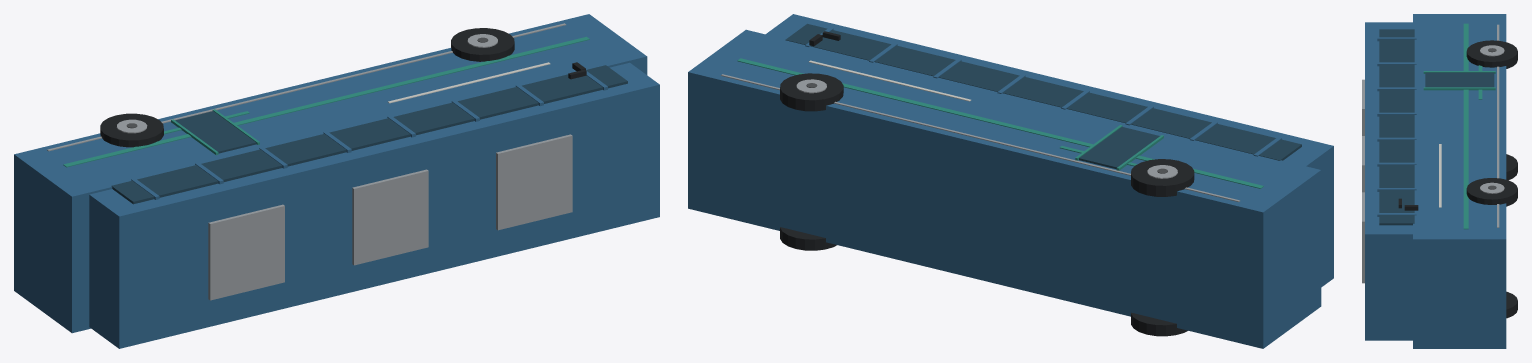
File: RM_Bus_01.glb
3 renders of one model, left to right at view 1: azimuth 30°, elevation 25°; view 2: azimuth 150°, elevation 25°; view 3: azimuth 270°, elevation 25°, orthographic. The views are drawn at different scales.
Visible parts, largest first — view 1: part_001, part_000, part_002, part_038, part_039, part_037, part_013, part_040, part_024, part_030, part_014, part_043; view 2: part_000, part_002, part_001, part_013, part_040, part_030, part_024, part_014, part_021, part_027; view 3: part_000, part_001, part_002, part_040, part_013, part_024, part_030, part_014, part_042, part_039, part_027, part_021 (+6 smaller).
Part boxes in pixels (x1,y1,x2,y2): part_001: (89,62,659,348); part_000: (14,14,647,333); part_002: (111,65,627,204); part_038: (352,169,428,265); part_039: (496,134,572,230); part_037: (208,204,284,300); part_013: (63,36,589,167); part_040: (175,111,256,153); part_024: (100,113,163,147); part_030: (451,28,514,61); part_014: (47,23,566,151); part_043: (388,62,550,103); part_000: (688,29,1321,348); part_002: (785,23,1301,160); part_001: (765,14,1333,287); part_013: (737,58,1263,188); part_040: (1079,127,1159,169); part_030: (780,73,843,111); part_024: (1131,159,1194,196); part_014: (721,74,1240,202); part_021: (1131,312,1187,336); part_027: (780,227,836,250); part_000: (1413,14,1506,348); part_001: (1365,22,1412,340); part_002: (1379,29,1414,225); part_040: (1425,72,1494,87); part_013: (1463,23,1468,229); part_024: (1466,40,1517,68); part_030: (1466,178,1517,206); part_014: (1497,24,1499,227); part_042: (1423,87,1495,90); part_039: (1362,192,1364,283); part_027: (1506,291,1517,318); part_021: (1506,154,1517,180).
Bounding box in the file's own units: 10.8 × 2.77 × 3.16.
